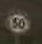limite 50: (4, 10, 32, 36)
